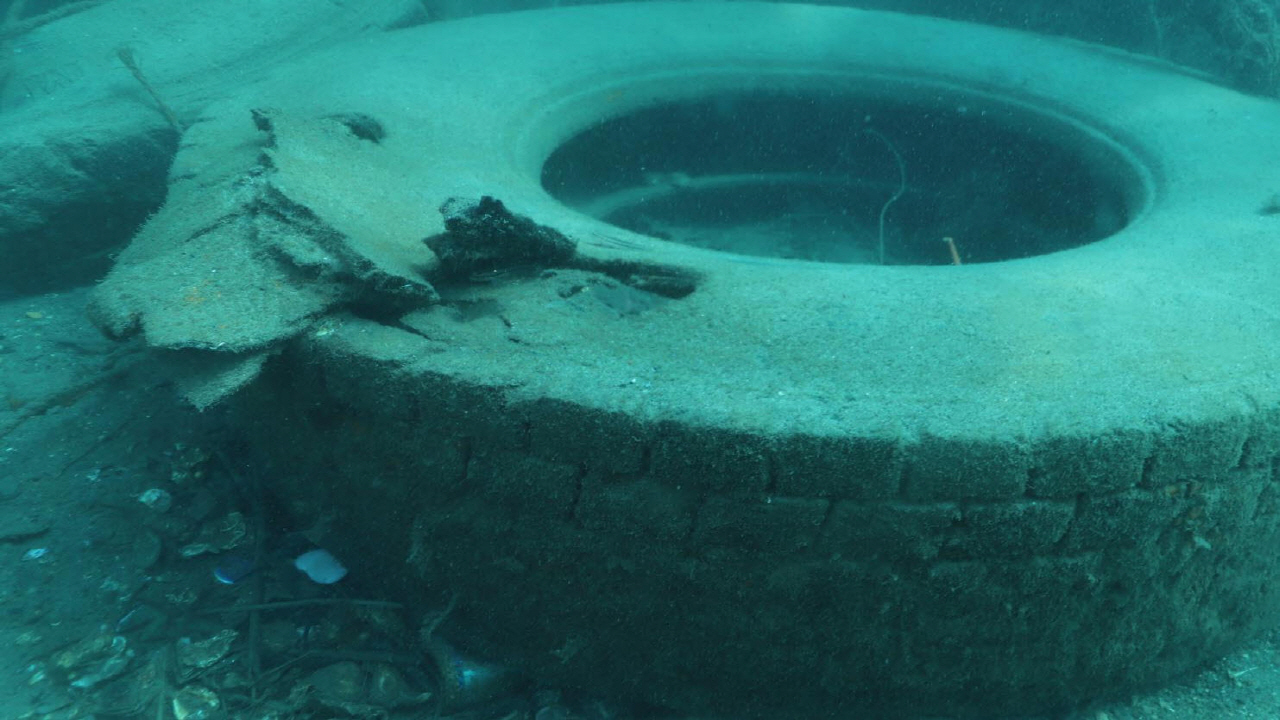tire: (164, 0, 1280, 720)
